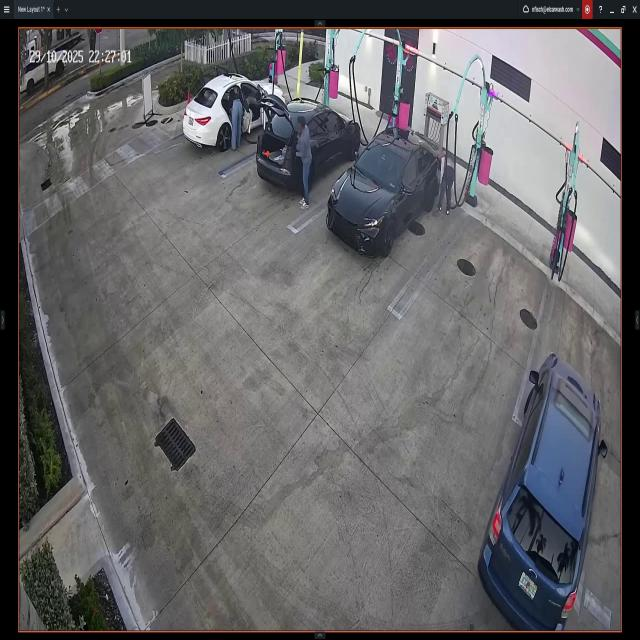Car: (474, 354, 605, 631), (329, 128, 442, 256), (258, 96, 359, 190), (184, 78, 289, 159)
